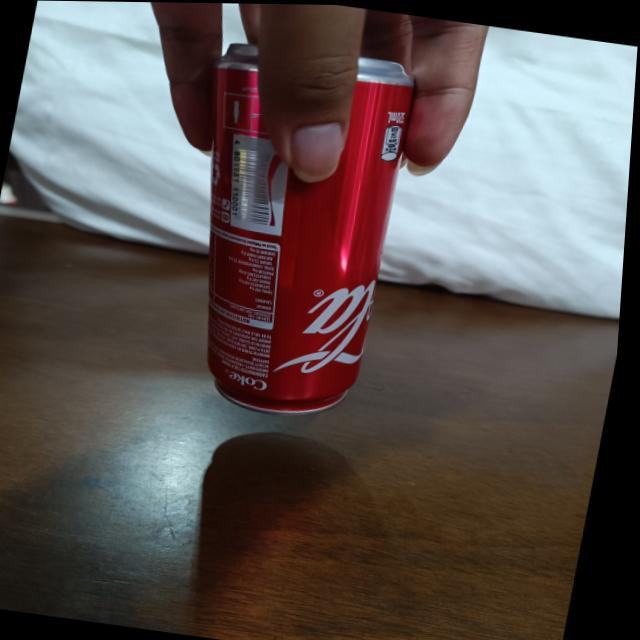coke: (162, 37, 418, 427)
